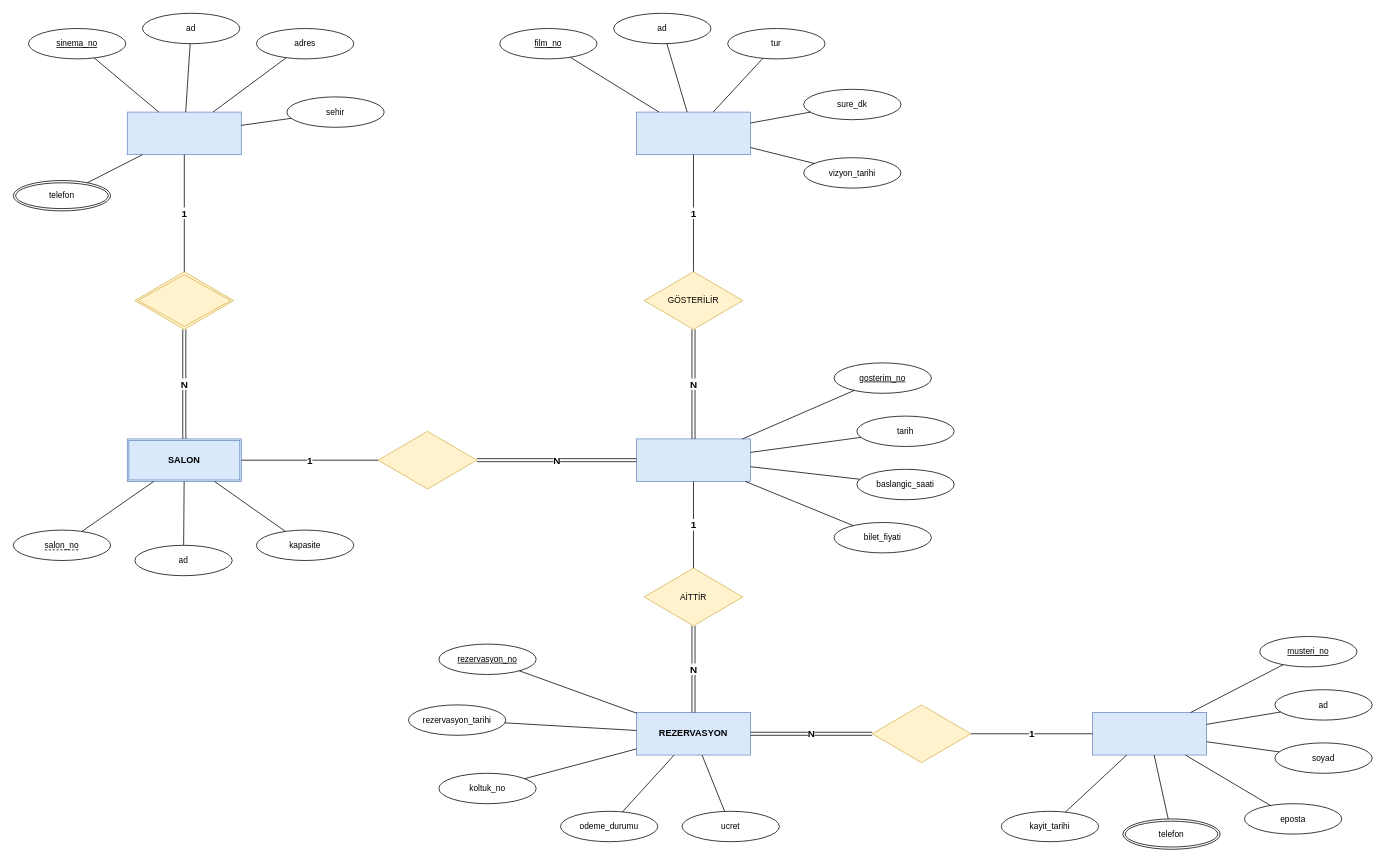
Image size: 1385x863. Some labels were removed from this diagram. Here are the shapes that lost their labels. From the top down, the box of each, then its label:
(127, 111, 241, 155): SİNEMA
(636, 111, 750, 155): FİLM
(134, 271, 234, 329): SAHİPTİR
(377, 431, 477, 489): YAPILIR
(636, 438, 750, 481): GÖSTERİM
(871, 704, 971, 763): YAPAR
(1092, 712, 1206, 755): MÜŞTERİ
